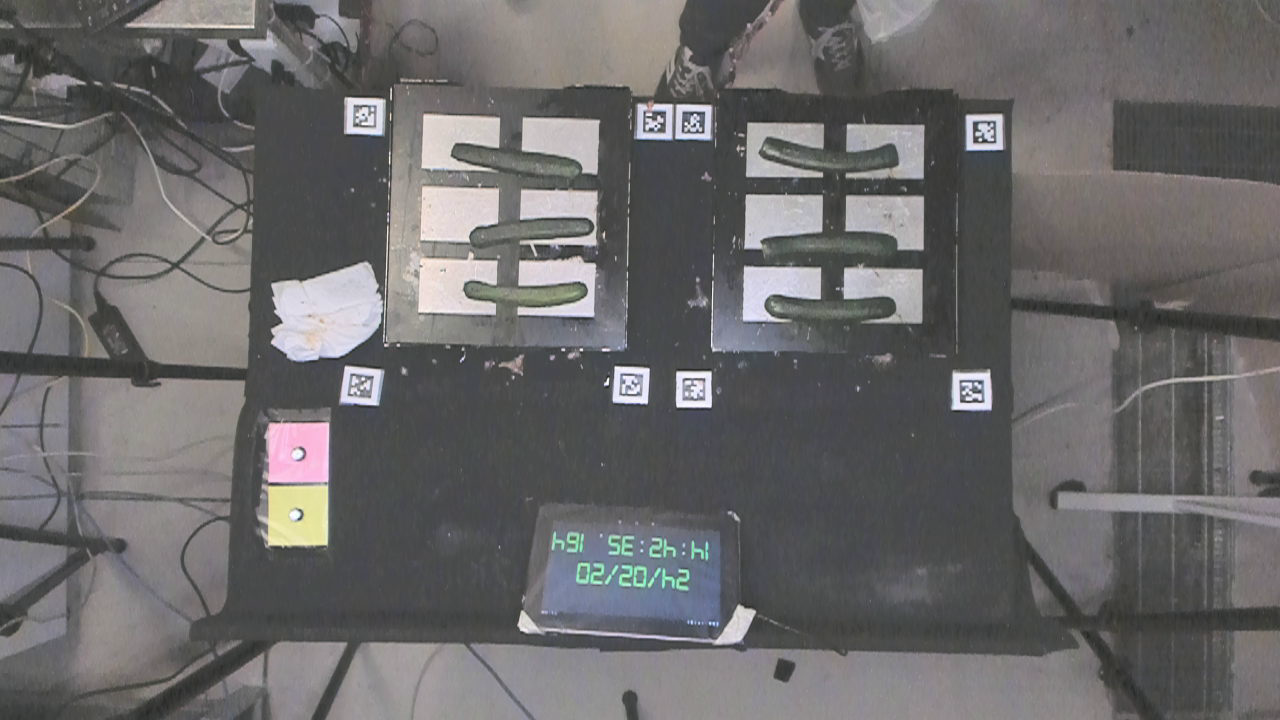marker: (263, 420, 332, 485)
zucchini: (755, 127, 911, 174), (450, 140, 589, 185), (759, 225, 901, 266), (761, 289, 896, 326), (459, 276, 594, 311), (467, 218, 598, 244)
